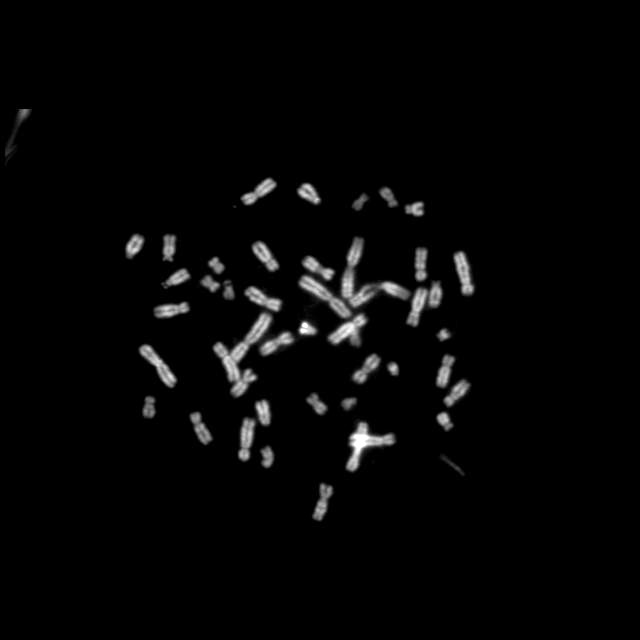chromosome: (226, 312, 272, 372), (298, 274, 350, 318), (350, 280, 412, 308), (139, 344, 177, 388), (342, 238, 364, 300), (212, 342, 240, 382), (346, 422, 368, 472), (330, 314, 366, 344), (453, 250, 475, 296), (241, 177, 275, 205), (246, 285, 282, 311), (353, 353, 381, 385), (302, 253, 334, 280), (251, 242, 279, 272), (236, 418, 256, 460), (260, 332, 294, 356), (408, 288, 428, 328), (348, 432, 398, 448), (230, 369, 258, 397), (190, 411, 212, 445), (314, 484, 332, 522), (435, 353, 455, 387), (161, 268, 191, 290), (154, 301, 190, 319), (444, 381, 468, 407), (413, 248, 429, 280), (125, 234, 144, 260), (298, 182, 320, 204), (306, 393, 328, 415), (255, 400, 273, 426), (378, 187, 398, 210), (162, 234, 176, 264), (429, 280, 443, 310), (141, 396, 157, 419), (436, 411, 454, 431), (347, 322, 361, 346), (298, 320, 318, 336), (260, 447, 274, 469), (352, 193, 368, 211), (406, 201, 424, 217), (202, 276, 218, 292), (342, 396, 358, 412), (210, 255, 224, 273), (223, 281, 235, 301), (436, 328, 452, 342), (388, 362, 398, 378)
